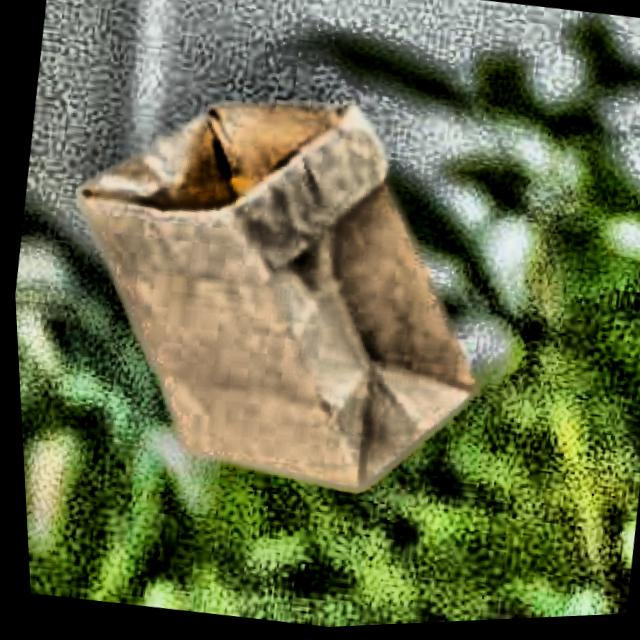Paper-bag: (2, 37, 528, 549)
